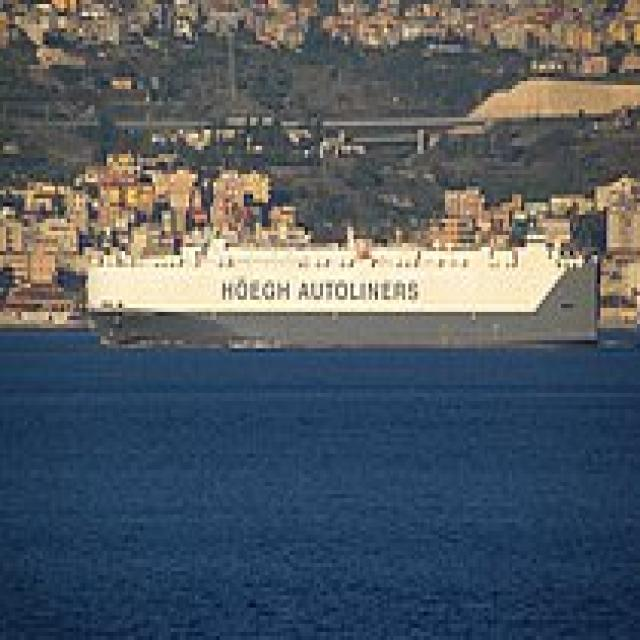Carrier: (80, 215, 600, 344)
